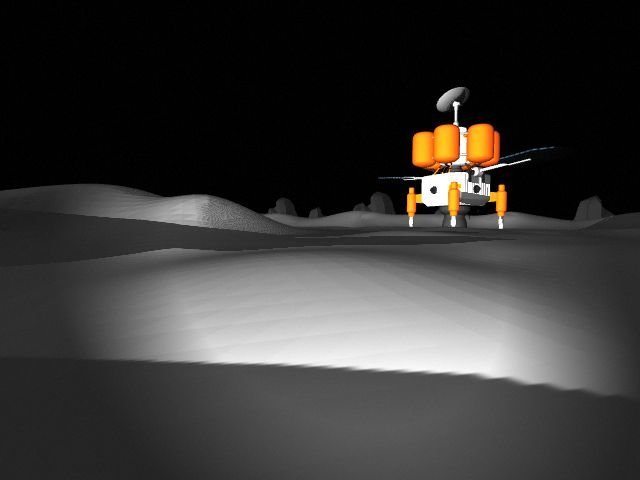homebase: (357, 84, 565, 231)
